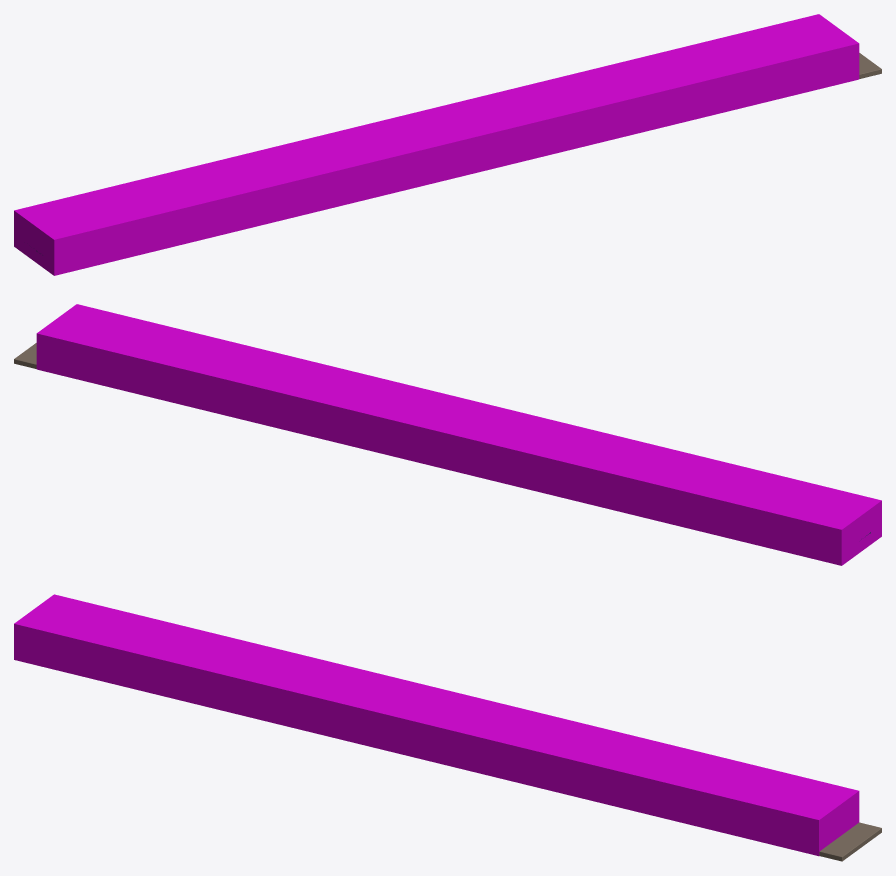
Rendered from PRP_Channel_Blocked_A.glb.
3 views of the same model, one above another, from view 1: azimuth 30°, elevation 25°; view 2: azimuth 150°, elevation 25°; view 3: azimuth 330°, elevation 25° (orthographic).
Visible parts, largest first — view 1: COL_Wall_-1, COL_Bed, COL_Wall_1; view 2: COL_Wall_1, COL_Bed, COL_Wall_-1; view 3: COL_Wall_-1, COL_Bed, COL_Wall_1, PRP_Channel_Blocked_A_Mesh.
Part boxes in pixels (x1=…): COL_Wall_-1: x1=44, y1=36, x2=859, y2=275; COL_Bed: x1=24, y1=21, x2=848, y2=268; COL_Wall_1: x1=14, y1=14, x2=828, y2=253; COL_Wall_1: x1=36, y1=326, x2=851, y2=565; COL_Bed: x1=47, y1=311, x2=870, y2=558; COL_Wall_-1: x1=66, y1=304, x2=881, y2=544; COL_Wall_-1: x1=14, y1=616, x2=829, y2=856; COL_Bed: x1=25, y1=602, x2=848, y2=843; COL_Wall_1: x1=43, y1=594, x2=859, y2=829; PRP_Channel_Blocked_A_Mesh: x1=819, y1=822, x2=881, y2=861.
Bounding box in the file's own units: 14.4 × 0.8012 × 1.21.
